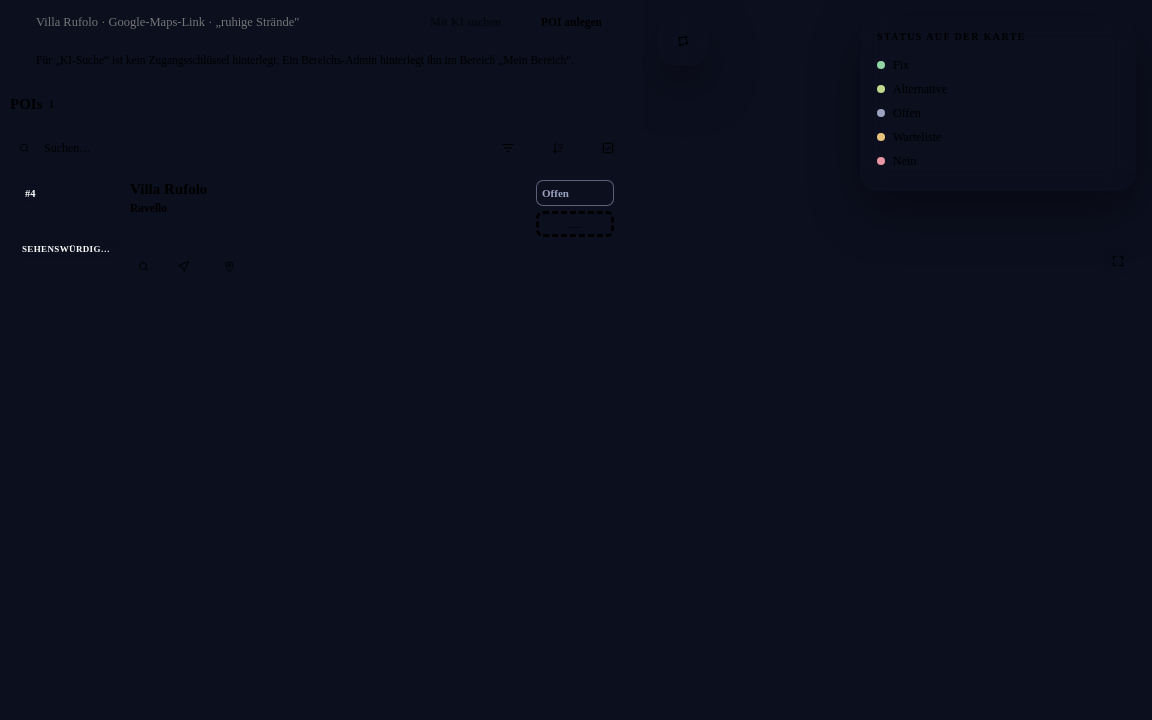
Test: PoisView — POI ändern (req-035) › übernimmt den geänderten Namen in die Liste
The width and height of the screenshot is (1152, 720).
Click the button "Villa Rufolo Ravello" at (169, 189), box top-left (130, 180), bottom-right (526, 248)
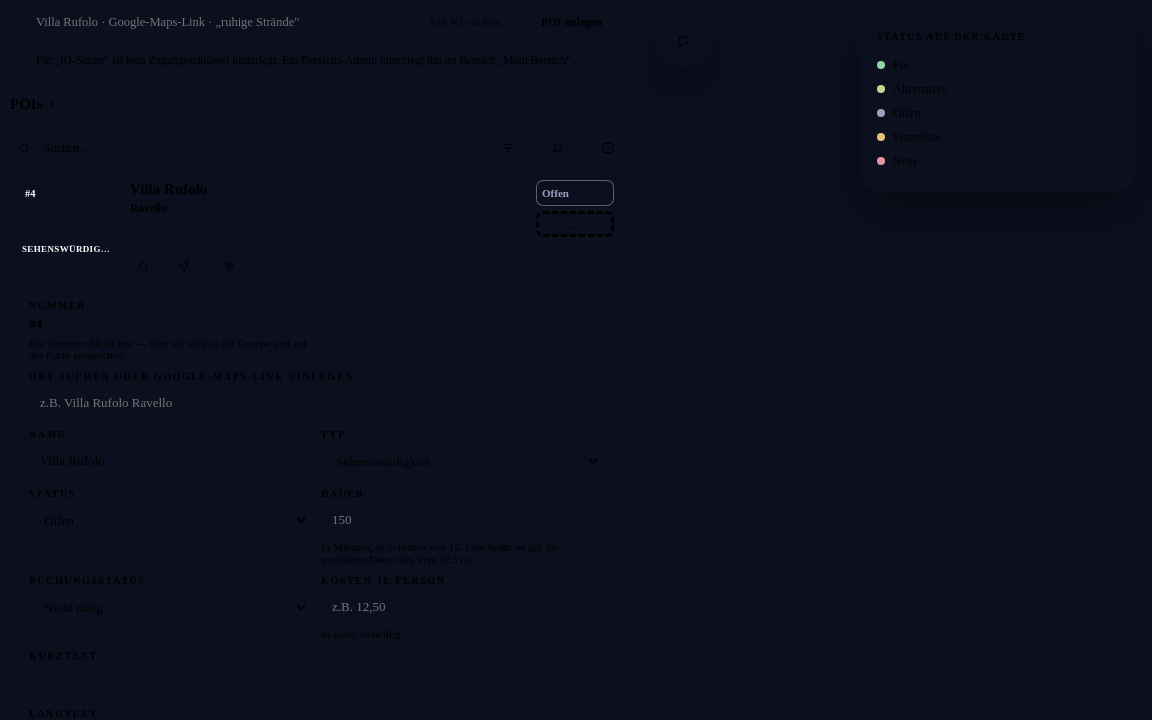
Replace the text in the field labelled "Name" with "Villa Rufolo (Garten)" at (169, 461), box top-left (29, 445), bottom-right (309, 477)
(page scrolled)
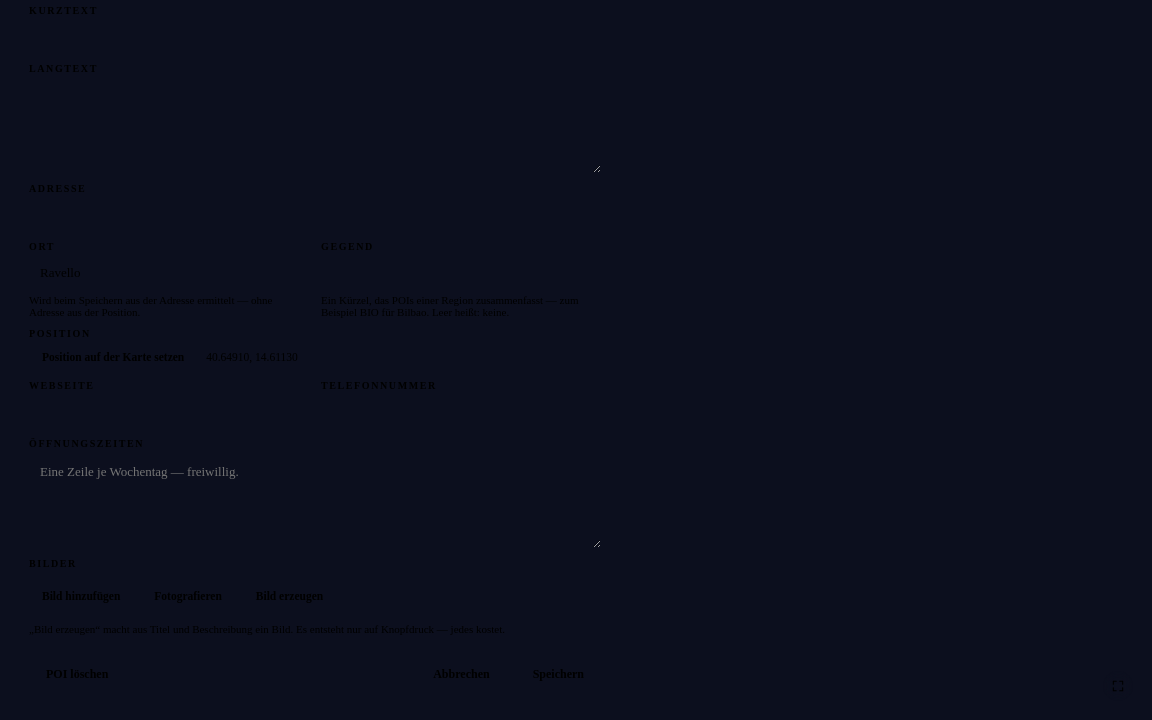
Click the button "Speichern" at (558, 674), box top-left (516, 659), bottom-right (601, 690)
(page scrolled)
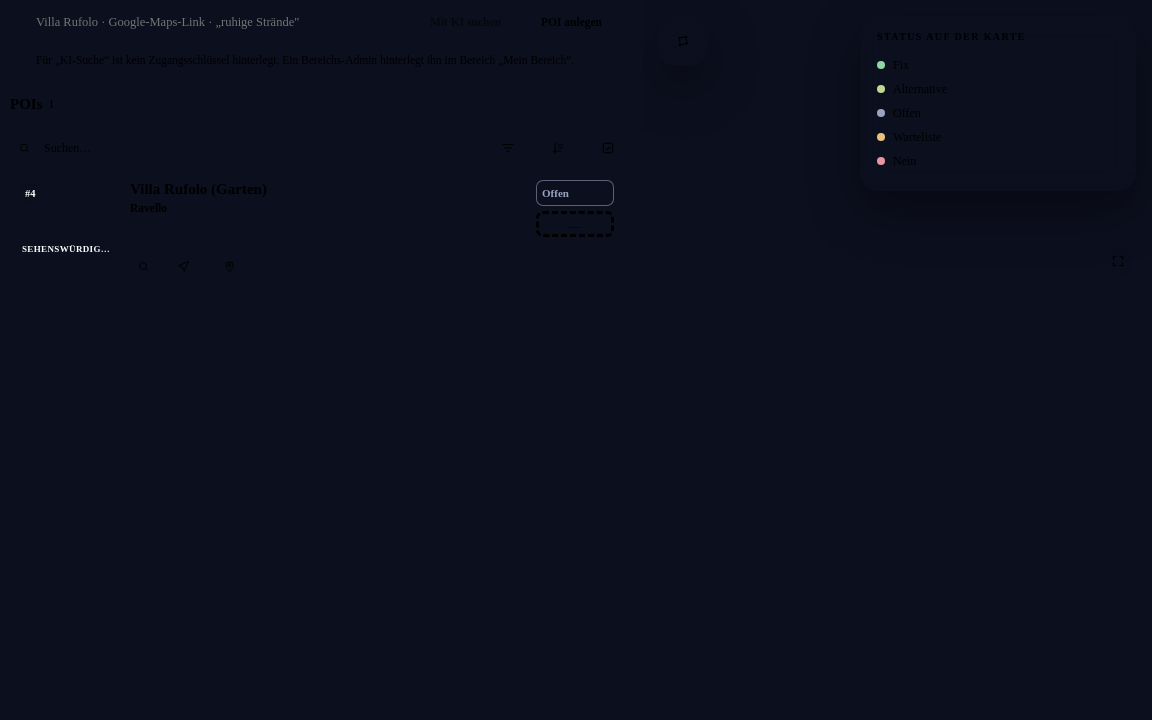
expect the button "Villa Rufolo (Garten) Ravello" is shown: met, box top-left (130, 180), bottom-right (526, 248)
